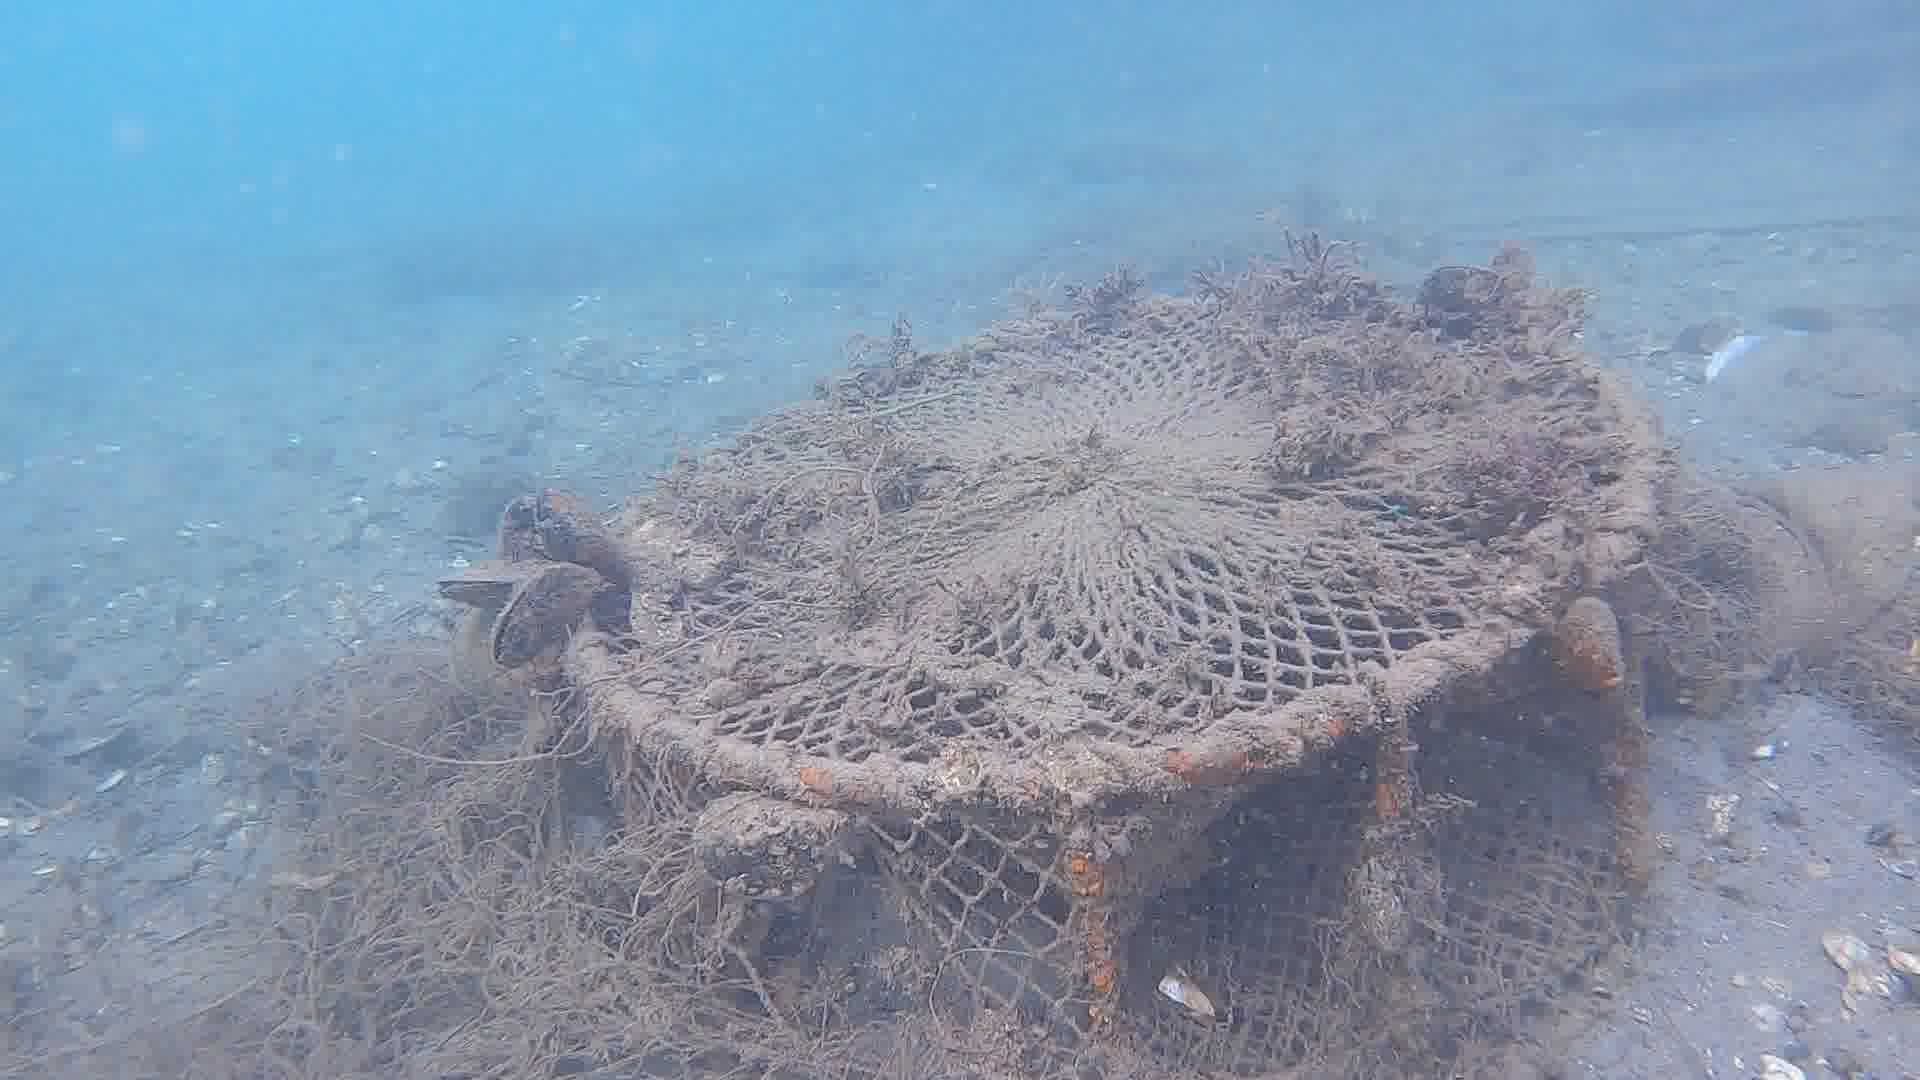circular fish trap: (553, 291, 1664, 1080)
